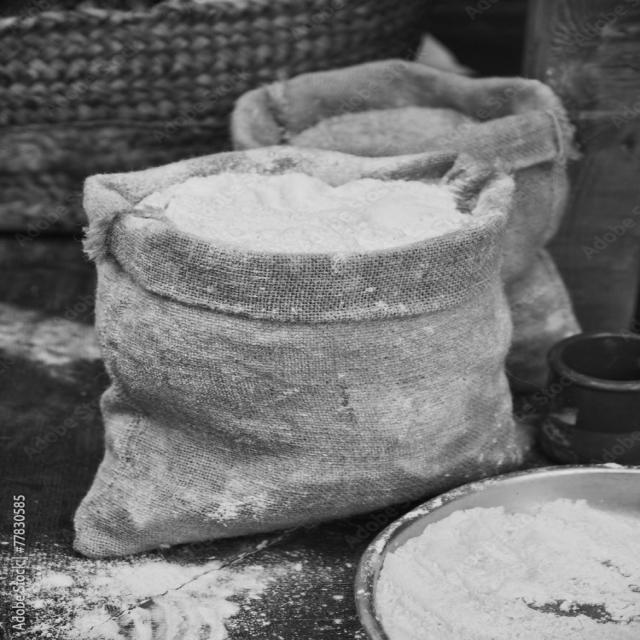sack: (72, 146, 538, 560), (228, 60, 582, 398)
